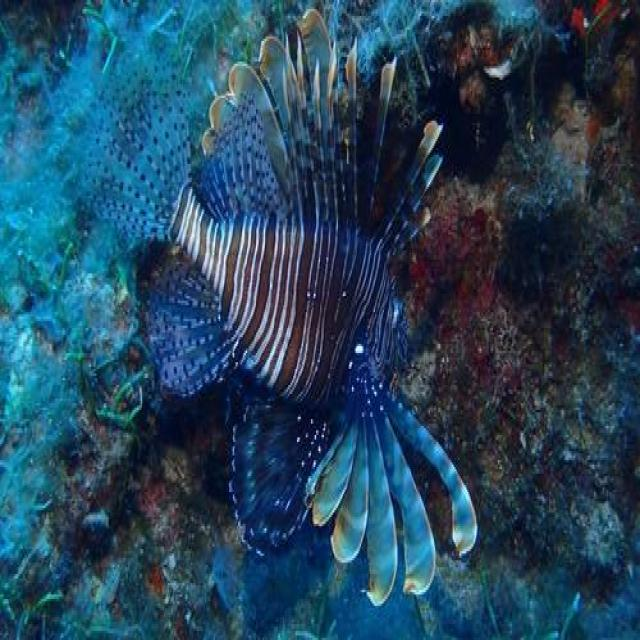Aslan Baligi: (138, 7, 479, 608)
